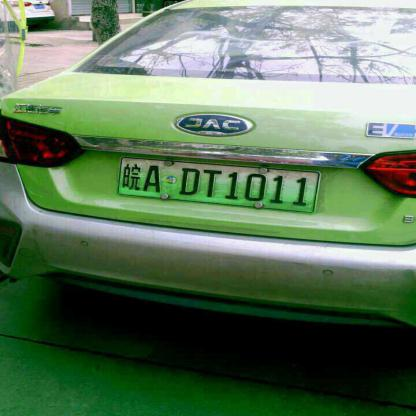lp: (115, 157, 322, 214)
